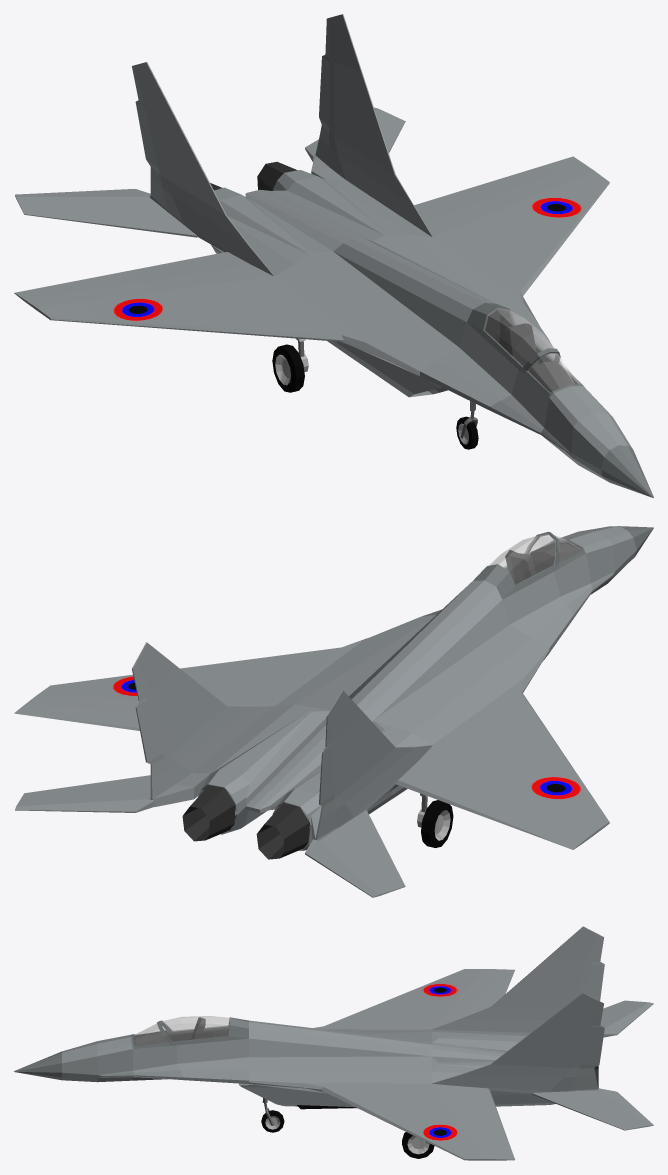
3 renders of one model, top to bottom at view 1: azimuth 30°, elevation 25°; view 2: azimuth 150°, elevation 25°; view 3: azimuth 270°, elevation 25°, orthographic. The views are drawn at different scales.
Parts seen in each view (by area): view 1: Circle.012, R_elevator.002, Wwindshield.002, R_Flap.002, Landing gear_RR.002, L_Flap.002, L_Rudder.002, R_Rudder.002, R_ailerone.002, L_ailerone.002, L_Elevator.002, Landing gear_F.002; view 2: Circle.012, R_elevator.002, L_Elevator.002, Wwindshield.002, R_Flap.002, L_Rudder.002, Landing gear_RR.002, R_ailerone.002, L_ailerone.002, R_Rudder.002; view 3: Circle.012, Wwindshield.002, L_Elevator.002, R_elevator.002, L_Rudder.002, L_Flap.002, R_Rudder.002, Landing gear_RL.002, L_ailerone.002, Landing gear_F.002, R_ailerone.002.
Boxes of the visible parts, bbox=[...] form: Circle.012: bbox=[14, 14, 653, 497]; R_elevator.002: bbox=[15, 189, 197, 237]; Wwindshield.002: bbox=[467, 303, 583, 397]; R_Flap.002: bbox=[127, 252, 251, 281]; Landing gear_RR.002: bbox=[272, 338, 308, 392]; L_Flap.002: bbox=[414, 185, 495, 222]; L_Rudder.002: bbox=[319, 54, 334, 136]; R_Rudder.002: bbox=[135, 100, 165, 177]; R_ailerone.002: bbox=[54, 271, 143, 292]; L_ailerone.002: bbox=[481, 166, 552, 195]; L_Elevator.002: bbox=[305, 107, 405, 162]; Landing gear_F.002: bbox=[456, 401, 478, 449]; Circle.012: bbox=[14, 526, 653, 859]; R_elevator.002: bbox=[305, 810, 405, 897]; L_Elevator.002: bbox=[15, 775, 154, 812]; Wwindshield.002: bbox=[473, 531, 585, 599]; R_Flap.002: bbox=[395, 761, 495, 814]; L_Rudder.002: bbox=[135, 693, 170, 764]; Landing gear_RR.002: bbox=[417, 793, 453, 847]; R_ailerone.002: bbox=[479, 799, 552, 837]; L_ailerone.002: bbox=[53, 708, 137, 729]; R_Rudder.002: bbox=[319, 738, 339, 806]; Circle.012: bbox=[14, 926, 603, 1160]; Wwindshield.002: bbox=[131, 1016, 248, 1048]; L_Elevator.002: bbox=[531, 1088, 653, 1130]; R_elevator.002: bbox=[600, 1000, 653, 1037]; L_Rudder.002: bbox=[572, 1025, 604, 1068]; L_Flap.002: bbox=[457, 1086, 501, 1122]; R_Rudder.002: bbox=[576, 962, 604, 1000]; Landing gear_RL.002: bbox=[402, 1132, 434, 1158]; L_ailerone.002: bbox=[478, 1120, 510, 1146]; Landing gear_F.002: bbox=[261, 1098, 284, 1132]; R_ailerone.002: bbox=[478, 980, 510, 1001].
Bounding box in the file's own units: 1071 × 454 × 1525.
